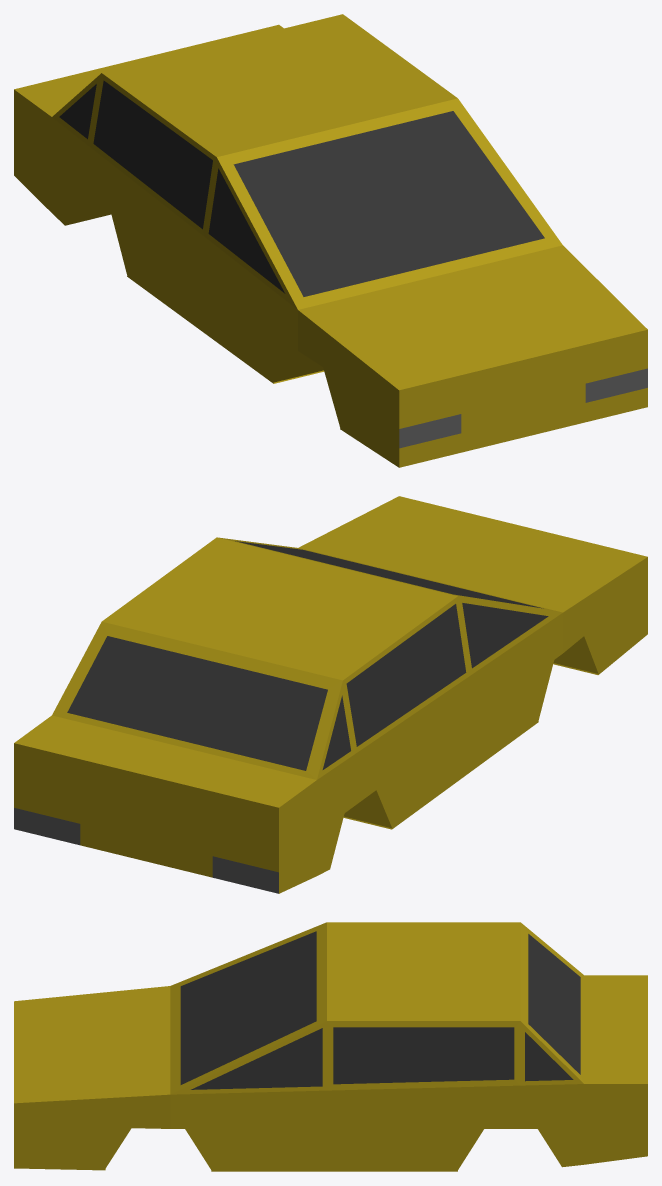
Rendered from Car_Destine.fbx.
3 views of the same model, one above another, from view 1: azimuth 30°, elevation 25°; view 2: azimuth 150°, elevation 25°; view 3: azimuth 270°, elevation 25° (orthographic). The views are drawn at different scales.
Visible parts, largest first — view 1: Car_Destine; view 2: Car_Destine; view 3: Car_Destine.
Boxes of the visible parts, x1,y1,x2,y2 form: Car_Destine: (14, 14, 647, 467); Car_Destine: (14, 496, 647, 893); Car_Destine: (14, 922, 647, 1171).
Size of the model in its own units: 201 by 126 by 496.
